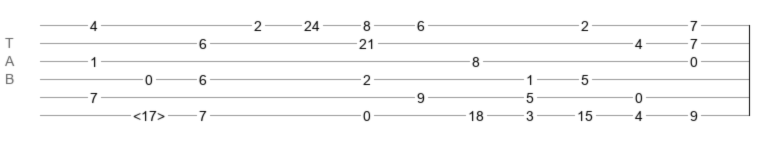0: (145, 72, 153, 82), (363, 108, 371, 118), (635, 90, 643, 100), (690, 54, 698, 64)
1: (90, 54, 98, 64), (526, 72, 534, 82)
15: (577, 108, 593, 118)
18: (468, 108, 484, 118)
2: (254, 18, 262, 28), (363, 72, 371, 82), (581, 18, 589, 28)
21: (359, 36, 375, 46)
24: (304, 18, 320, 28)
3: (526, 108, 534, 118)
4: (90, 18, 98, 28), (635, 36, 643, 46), (635, 108, 643, 118)
5: (526, 90, 534, 100), (581, 72, 589, 82)
6: (199, 36, 207, 46), (199, 72, 207, 82), (417, 18, 425, 28)
7: (90, 90, 98, 100), (199, 108, 207, 118), (690, 18, 698, 28), (690, 36, 698, 46)
8: (363, 18, 371, 28), (472, 54, 480, 64)
9: (417, 90, 425, 100), (690, 108, 698, 118)
harmonic: (133, 108, 165, 118)
